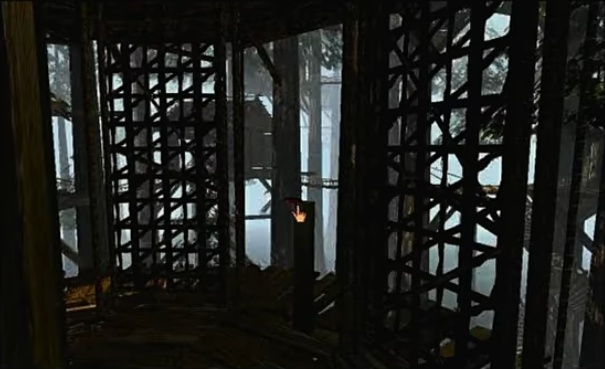Pointer: (288, 202, 311, 225)
